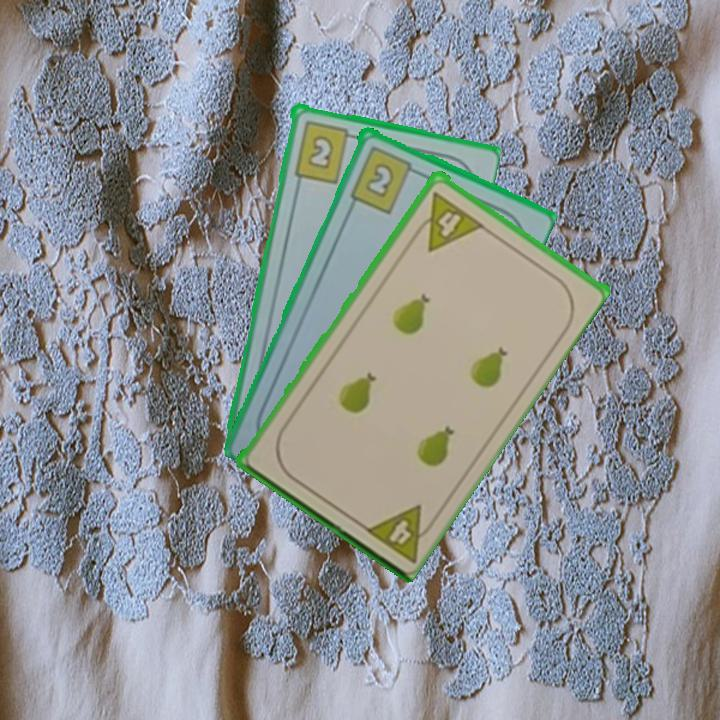2b: (346, 142, 422, 216), (290, 117, 360, 186)
4p: (359, 500, 441, 565), (408, 187, 485, 254)
